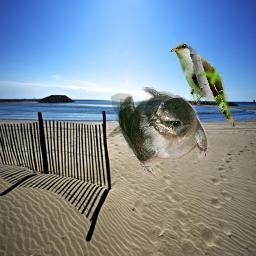Cuckoo: (168, 42, 239, 127)
Swallow: (105, 87, 210, 181)
